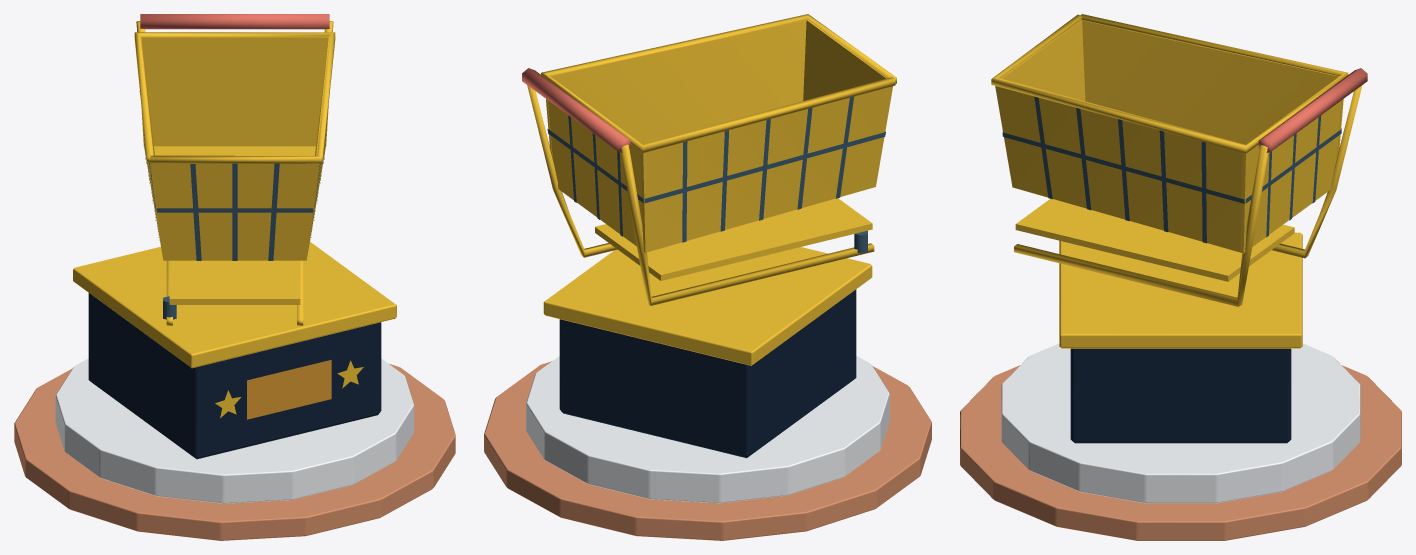
Rendered from CM_Prop_Monument.fbx.
The picture shows the model from 3 angles, left to right: view 1: azimuth 30°, elevation 25°; view 2: azimuth 150°, elevation 25°; view 3: azimuth 270°, elevation 25°; orthographic projection.
Visible parts, largest first — view 1: Body, Face; view 2: Body; view 3: Body.
Boxes of the visible parts, x1=… form: Body: x1=14, y1=14, x2=455, y2=540; Face: x1=247, y1=360, x2=331, y2=419; Body: x1=484, y1=14, x2=931, y2=540; Body: x1=960, y1=14, x2=1401, y2=540.
Bounding box in the file's own units: 16 × 16 × 15.07.
1 material, 1 textured.
